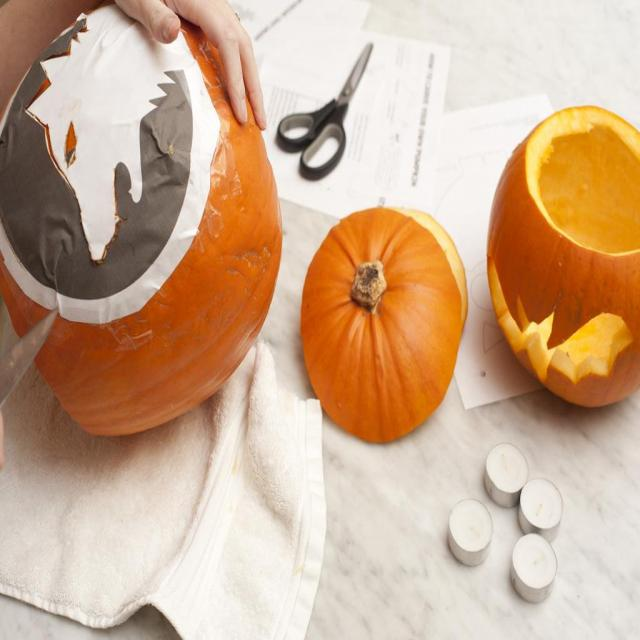scissor: (272, 39, 374, 179)
